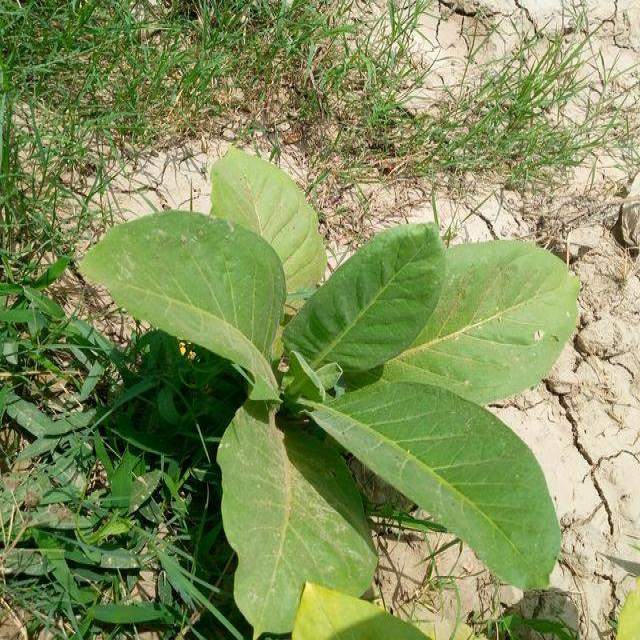crop: (83, 152, 572, 633)
